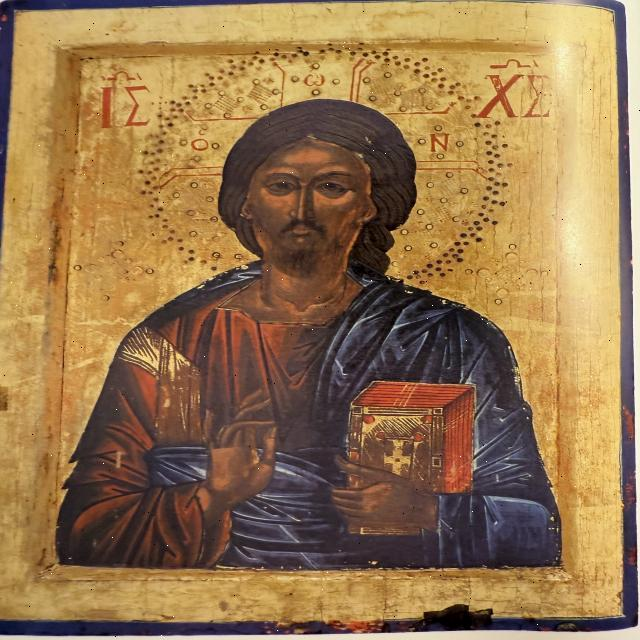aura: (143, 44, 511, 296)
book: (335, 375, 479, 539)
christ: (56, 43, 564, 573)
christ_hand: (130, 387, 296, 530)
